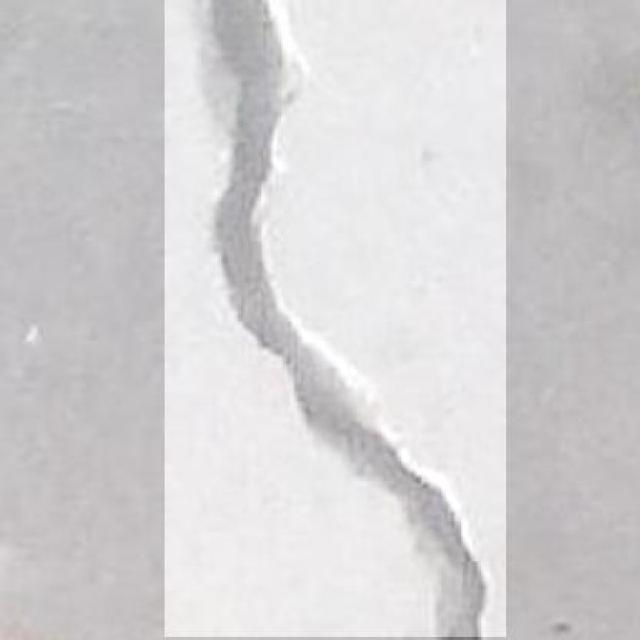Crack: (162, 13, 490, 627)
